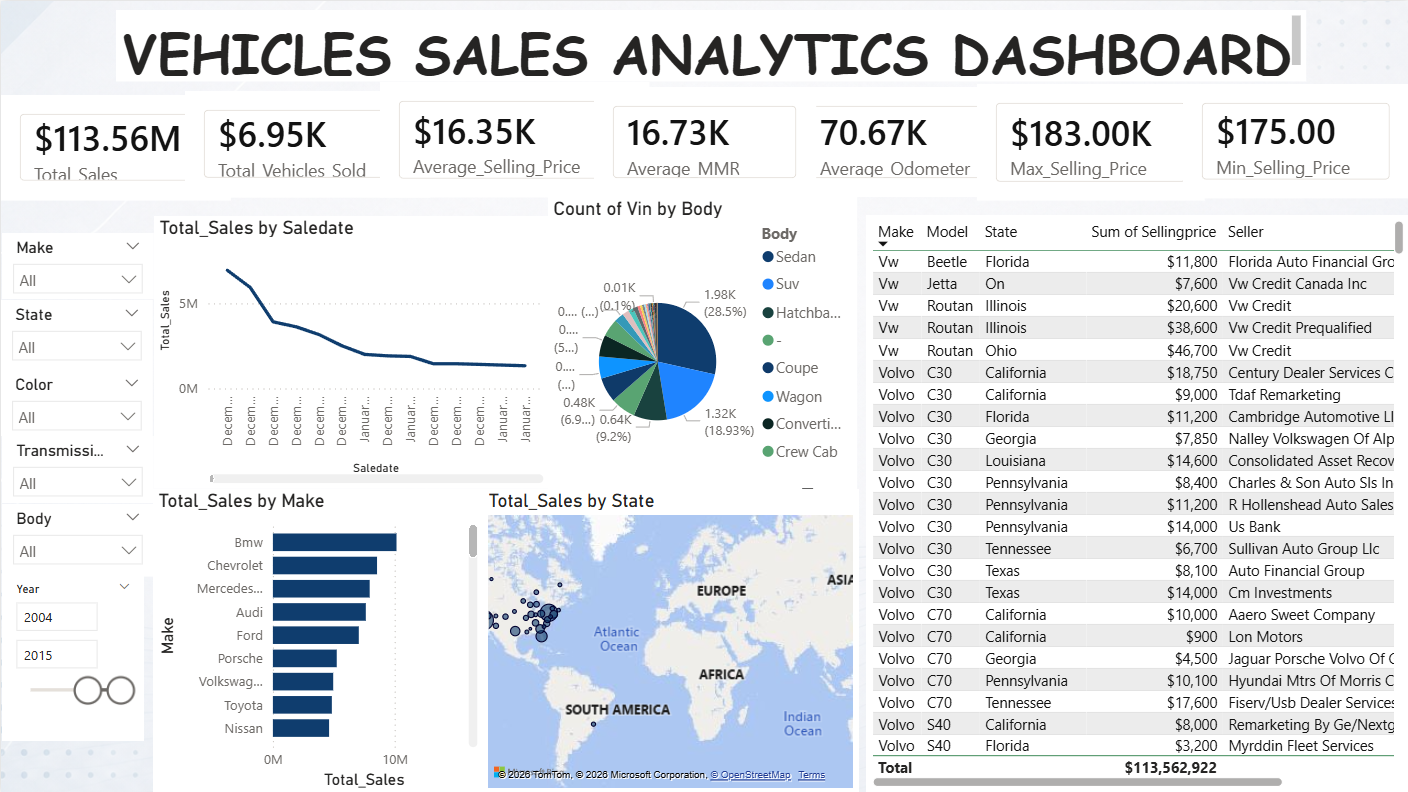

The page's visual inventory and layout, read from the dashboard file:
{"tool":"powerbi","page":{"name":"Page 1","canvas":[1280,720],"ordinal":0},"visuals":[{"type":"cardVisual","fields":{"Data":["Fact_Car_Sales.Total_Sales"]},"box":[0,85.4,208.7,95.7],"z":0},{"type":"cardVisual","fields":{"Data":["Fact_Car_Sales.Total_Vehicles_Sold"]},"box":[167.3,81.9,222.5,96.6],"z":1000},{"type":"cardVisual","fields":{"Data":["Fact_Car_Sales.Average_Selling_Price"]},"box":[344.2,73.3,245,105.2],"z":2000},{"type":"cardVisual","fields":{"Data":["Fact_Car_Sales.Average_Odometer"]},"box":[714.2,78.5,243.2,100.1],"z":3000},{"type":"cardVisual","fields":{"Data":["Fact_Car_Sales.Average_MMR"]},"box":[539.1,78.5,201.8,100.1],"z":4000},{"type":"clusteredBarChart","fields":{"Category":["Fact_Car_Sales.Make"],"Y":["Fact_Car_Sales.Total_Sales"]},"box":[137.8,443.3,300,276.7],"z":5000},{"type":"lineChart","fields":{"Category":["Fact_Car_Sales.Saledate"],"Y":["Fact_Car_Sales.Total_Sales"]},"box":[138.9,195.6,358.9,247.8],"z":6000},{"type":"pieChart","fields":{"Category":["Fact_Car_Sales.Body"],"Y":["CountNonNull(Fact_Car_Sales.Vin)"]},"box":[497.7,178.5,281.2,280.3],"z":7000},{"type":"map","fields":{"Category":["Fact_Car_Sales.State"],"Size":["Fact_Car_Sales.Total_Sales"]},"box":[437.8,443.3,341.1,276.7],"z":8000},{"type":"tableEx","fields":{"Values":["Fact_Car_Sales.Make","Fact_Car_Sales.Model","Fact_Car_Sales.State","Sum(Fact_Car_Sales.Sellingprice)","Fact_Car_Sales.Seller"]},"box":[786.4,180,493.6,524.5],"z":9000},{"type":"slicer","fields":{"Values":["Fact_Car_Sales.Make"]},"box":[0.9,211.3,138,60.4],"z":10000},{"type":"slicer","fields":{"Values":["Fact_Car_Sales.State"]},"box":[0,271.7,138,63.8],"z":11000},{"type":"slicer","fields":{"Values":["Fact_Car_Sales.Body"]},"box":[0.9,457.1,138,65.6],"z":12000},{"type":"slicer","fields":{"Values":["Fact_Car_Sales.Transmission"]},"box":[0.9,395.9,138,61.2],"z":13000},{"type":"slicer","fields":{"Values":["Fact_Car_Sales.Color"]},"box":[0,335.5,138,60.4],"z":14000},{"type":"slicer","fields":{"Values":["Fact_Car_Sales.Year"]},"box":[0.9,522.7,128.5,150.1],"z":15000},{"type":"cardVisual","fields":{"Data":["Fact_Car_Sales.Max_Selling_Price"]},"box":[887.5,75,207,106.1],"z":16000},{"type":"cardVisual","fields":{"Data":["Fact_Car_Sales.Min_Selling_Price"]},"box":[1074.7,75.9,205.3,104.4],"z":17000},{"type":"textbox","box":[104.4,8.6,1081.6,64.7],"z":19001}]}

Visuals, with their boxes in screenshot pixels (x1, y1, x2, y2), scaled from the page's 1280x720 canvas onto the 1408x792 screenshot:
cardVisual - Fact_Car_Sales.Total_Sales: bbox=(0, 94, 230, 199)
cardVisual - Fact_Car_Sales.Total_Vehicles_Sold: bbox=(184, 90, 429, 196)
cardVisual - Fact_Car_Sales.Average_Selling_Price: bbox=(379, 81, 648, 196)
cardVisual - Fact_Car_Sales.Average_Odometer: bbox=(786, 86, 1053, 196)
cardVisual - Fact_Car_Sales.Average_MMR: bbox=(593, 86, 815, 196)
clusteredBarChart - Fact_Car_Sales.Make x Fact_Car_Sales.Total_Sales: bbox=(152, 488, 482, 791)
lineChart - Fact_Car_Sales.Saledate x Fact_Car_Sales.Total_Sales: bbox=(153, 215, 548, 488)
pieChart - Fact_Car_Sales.Body x CountNonNull(Fact_Car_Sales.Vin): bbox=(547, 196, 857, 505)
map - Fact_Car_Sales.State x Fact_Car_Sales.Total_Sales: bbox=(482, 488, 857, 791)
tableEx - Fact_Car_Sales.Make x Fact_Car_Sales.Model: bbox=(865, 198, 1407, 775)
slicer - Fact_Car_Sales.Make: bbox=(1, 232, 153, 299)
slicer - Fact_Car_Sales.State: bbox=(0, 299, 152, 369)
slicer - Fact_Car_Sales.Body: bbox=(1, 503, 153, 575)
slicer - Fact_Car_Sales.Transmission: bbox=(1, 435, 153, 503)
slicer - Fact_Car_Sales.Color: bbox=(0, 369, 152, 435)
slicer - Fact_Car_Sales.Year: bbox=(1, 575, 142, 740)
cardVisual - Fact_Car_Sales.Max_Selling_Price: bbox=(976, 82, 1204, 199)
cardVisual - Fact_Car_Sales.Min_Selling_Price: bbox=(1182, 83, 1407, 198)
textbox: bbox=(115, 9, 1305, 81)
